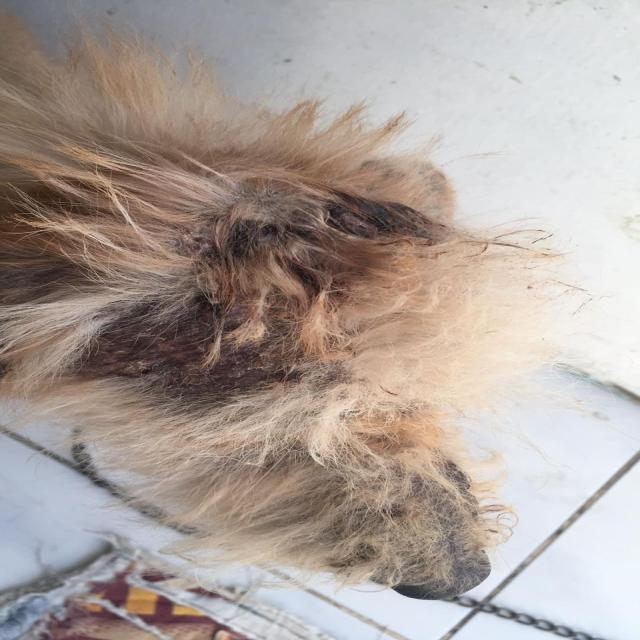demodicosis: (80, 317, 282, 396)
